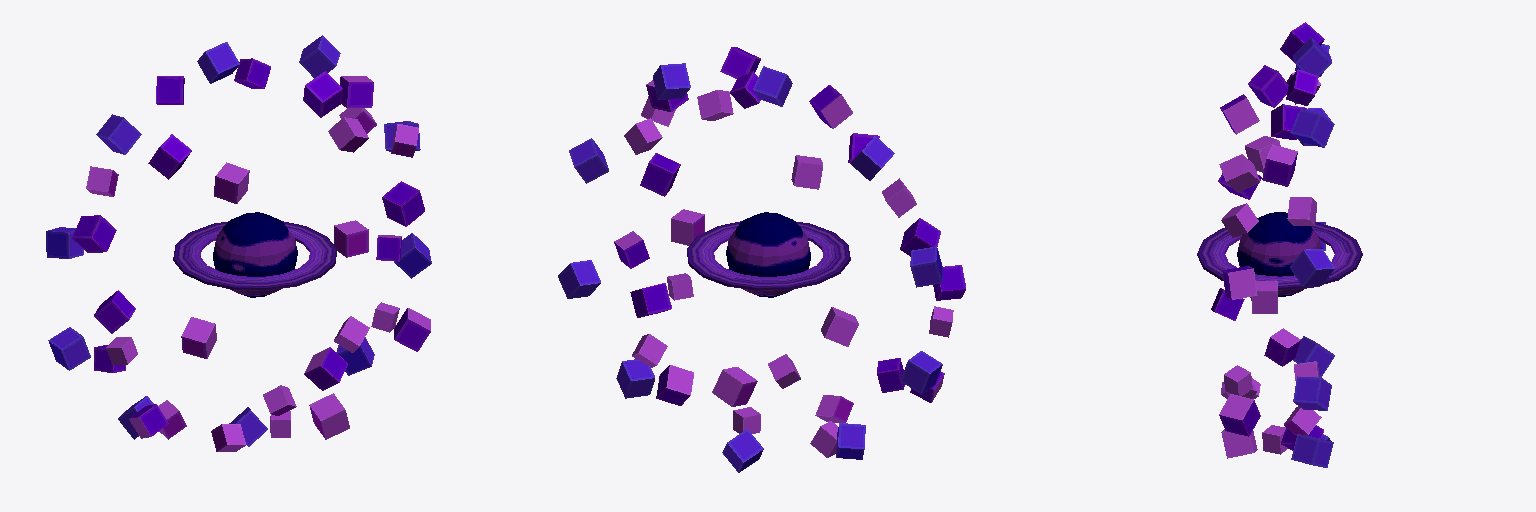
3 renders of one model, left to right at view 1: azimuth 30°, elevation 25°; view 2: azimuth 150°, elevation 25°; view 3: azimuth 270°, elevation 25°, orthographic.
Visible parts, largest first — view 1: DebrisA, DebrisB, Mesh_Ball, Mesh_Ring, DebrisA_2, DebrisA_3, DebrisA_1; view 2: DebrisA, DebrisB, Mesh_Ball, Mesh_Ring, DebrisA_2, DebrisA_1, DebrisA_3; view 3: DebrisA, DebrisB, Mesh_Ball, Mesh_Ring, DebrisA_1, DebrisA_3.
Boxes of the visible parts, <box> form: DebrisA: <box>72,58,430,451</box>; DebrisB: <box>46,35,431,446</box>; Mesh_Ball: <box>213,212,297,297</box>; Mesh_Ring: <box>173,221,336,290</box>; DebrisA_2: <box>181,317,216,358</box>; DebrisA_3: <box>214,162,249,203</box>; DebrisA_1: <box>334,220,368,257</box>; DebrisA: <box>614,47,965,457</box>; DebrisB: <box>558,63,942,472</box>; Mesh_Ball: <box>726,212,810,297</box>; Mesh_Ring: <box>687,221,850,290</box>; DebrisA_2: <box>821,307,858,346</box>; DebrisA_1: <box>671,209,704,245</box>; DebrisA_3: <box>791,155,822,189</box>; DebrisA: <box>1211,22,1324,458</box>; DebrisB: <box>1290,37,1334,467</box>; Mesh_Ball: <box>1237,212,1321,296</box>; Mesh_Ring: <box>1197,222,1362,290</box>; DebrisA_1: <box>1252,281,1277,313</box>; DebrisA_3: <box>1245,136,1280,172</box>.
Bounding box in the file's own units: 4.09 × 4.18 × 1.53.
Materials: 2 (1 with a texture image).